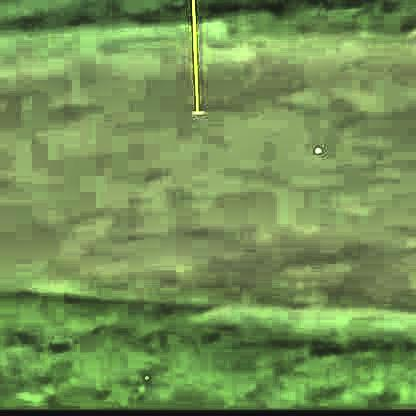golfball: (308, 144, 319, 154)
